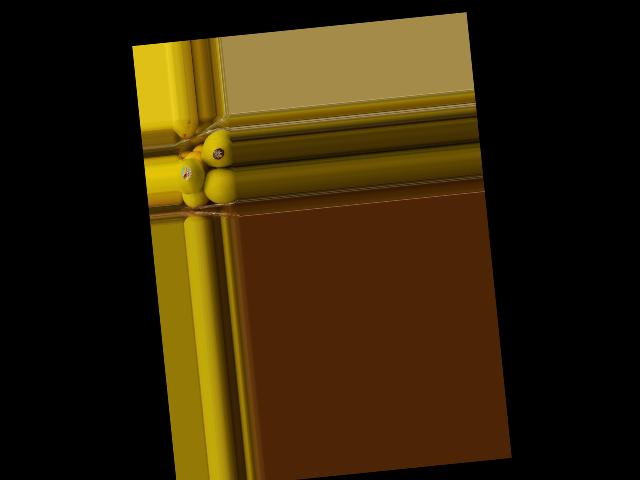apple: (175, 152, 206, 196)
